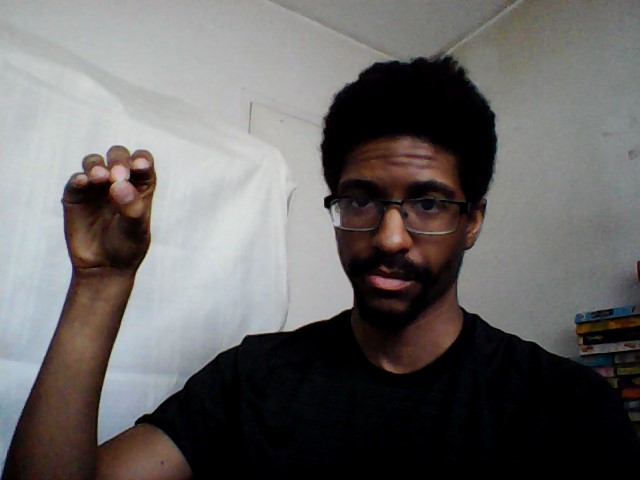o: (56, 142, 161, 270)
